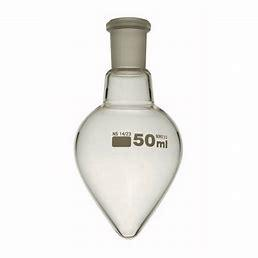Pear shaped flask: (71, 10, 183, 244)
